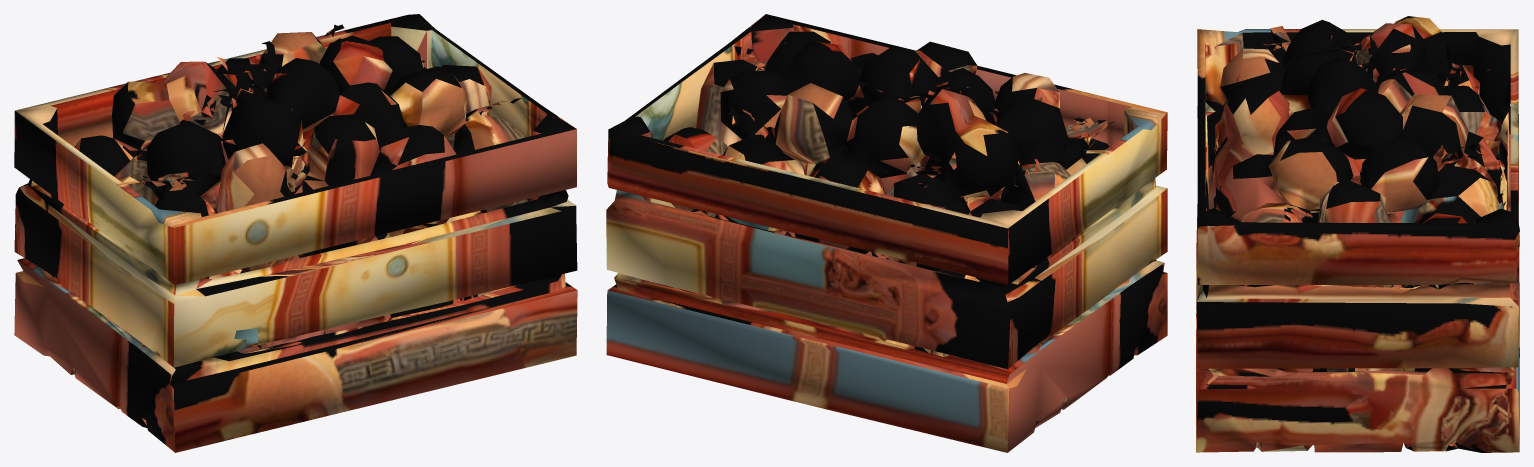
The model's file is MDL_Environment_Other_CrateOrange_CrateOrange.fbx.
3 views of the same model, side by side, from view 1: azimuth 30°, elevation 25°; view 2: azimuth 150°, elevation 25°; view 3: azimuth 270°, elevation 25° (orthographic).
Visible parts, largest first — view 1: Mesh1.0; view 2: Mesh1.0; view 3: Mesh1.0.
Part boxes in pixels (<box>): Mesh1.0: <box>14,14,577,452</box>; Mesh1.0: <box>606,14,1167,452</box>; Mesh1.0: <box>1196,16,1519,452</box>.
Size of the model in its own units: 191 by 131 by 132.
